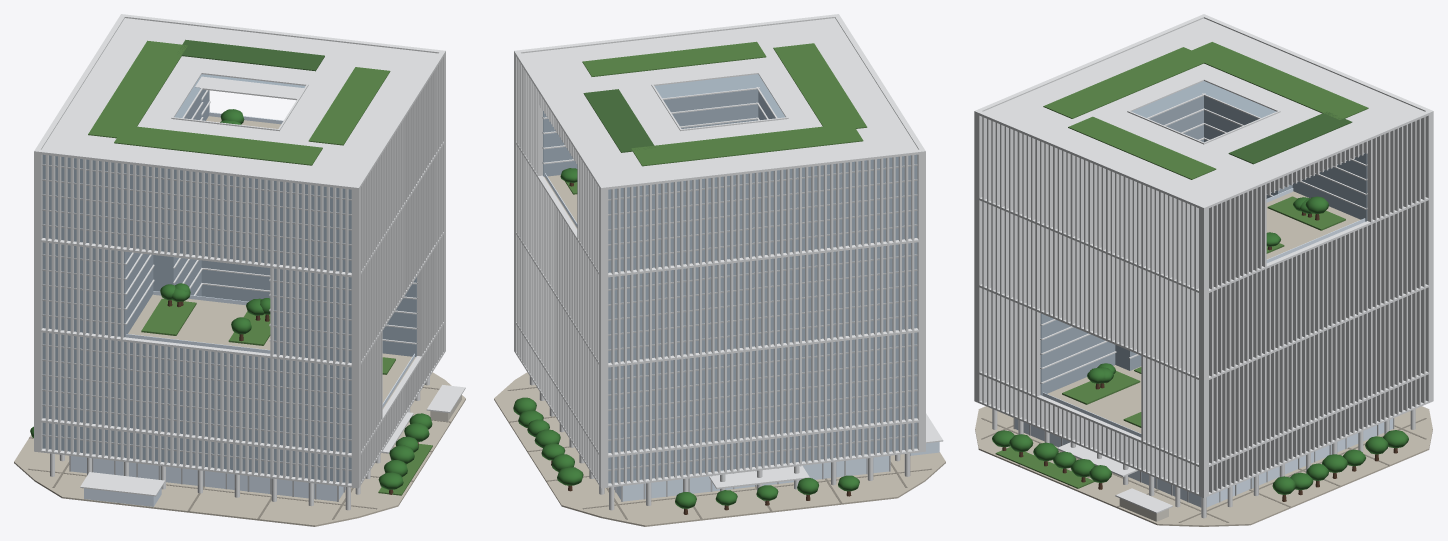
File: amorepacific-hq.glb
3 renders of one model, left to right at view 1: azimuth 30°, elevation 25°; view 2: azimuth 150°, elevation 25°; view 3: azimuth 270°, elevation 25°, orthographic. The views are drawn at different scales.
Size of the model in its own units: 143 by 110 by 143.
